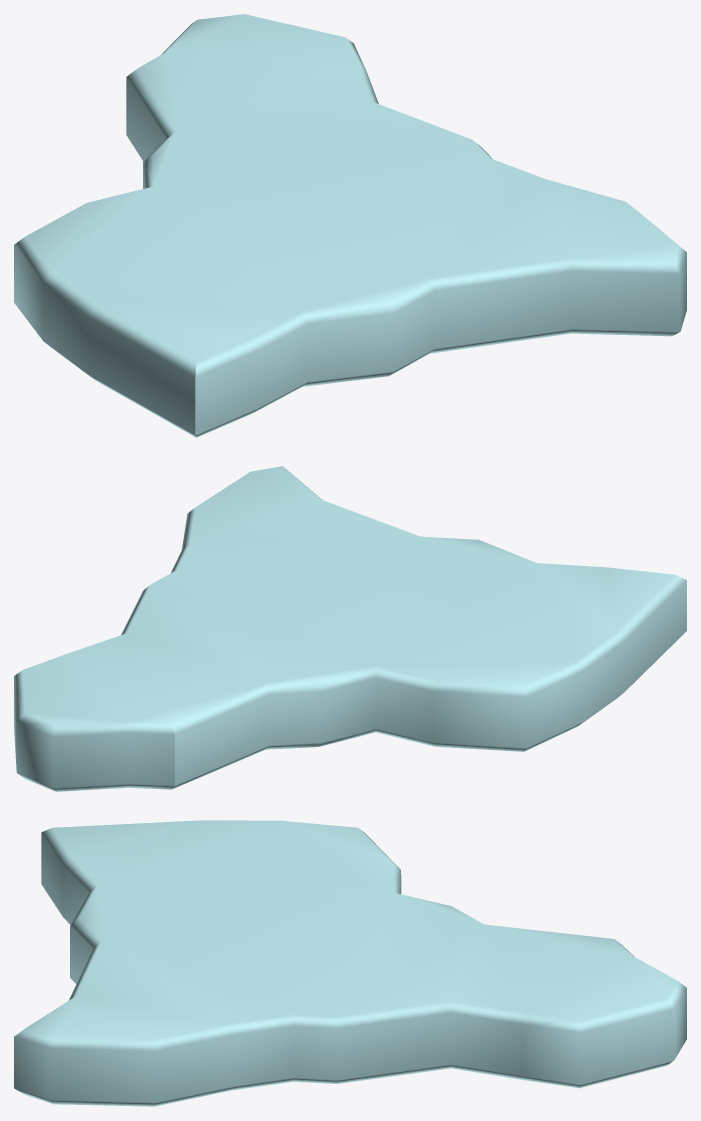
File: ice_floe_medium_007.fbx
3 views of the same model, one above another, from view 1: azimuth 30°, elevation 25°; view 2: azimuth 150°, elevation 25°; view 3: azimuth 270°, elevation 25° (orthographic). The views are drawn at different scales.
Parts seen in each view (by area): view 1: ice_floe_medium_007; view 2: ice_floe_medium_007; view 3: ice_floe_medium_007.
Boxes of the visible parts, x1,y1,x2,y2 form: ice_floe_medium_007: [14, 14, 686, 437]; ice_floe_medium_007: [14, 466, 686, 791]; ice_floe_medium_007: [14, 820, 686, 1106].
Bounding box in the file's own units: 646 × 811 × 89.44.
